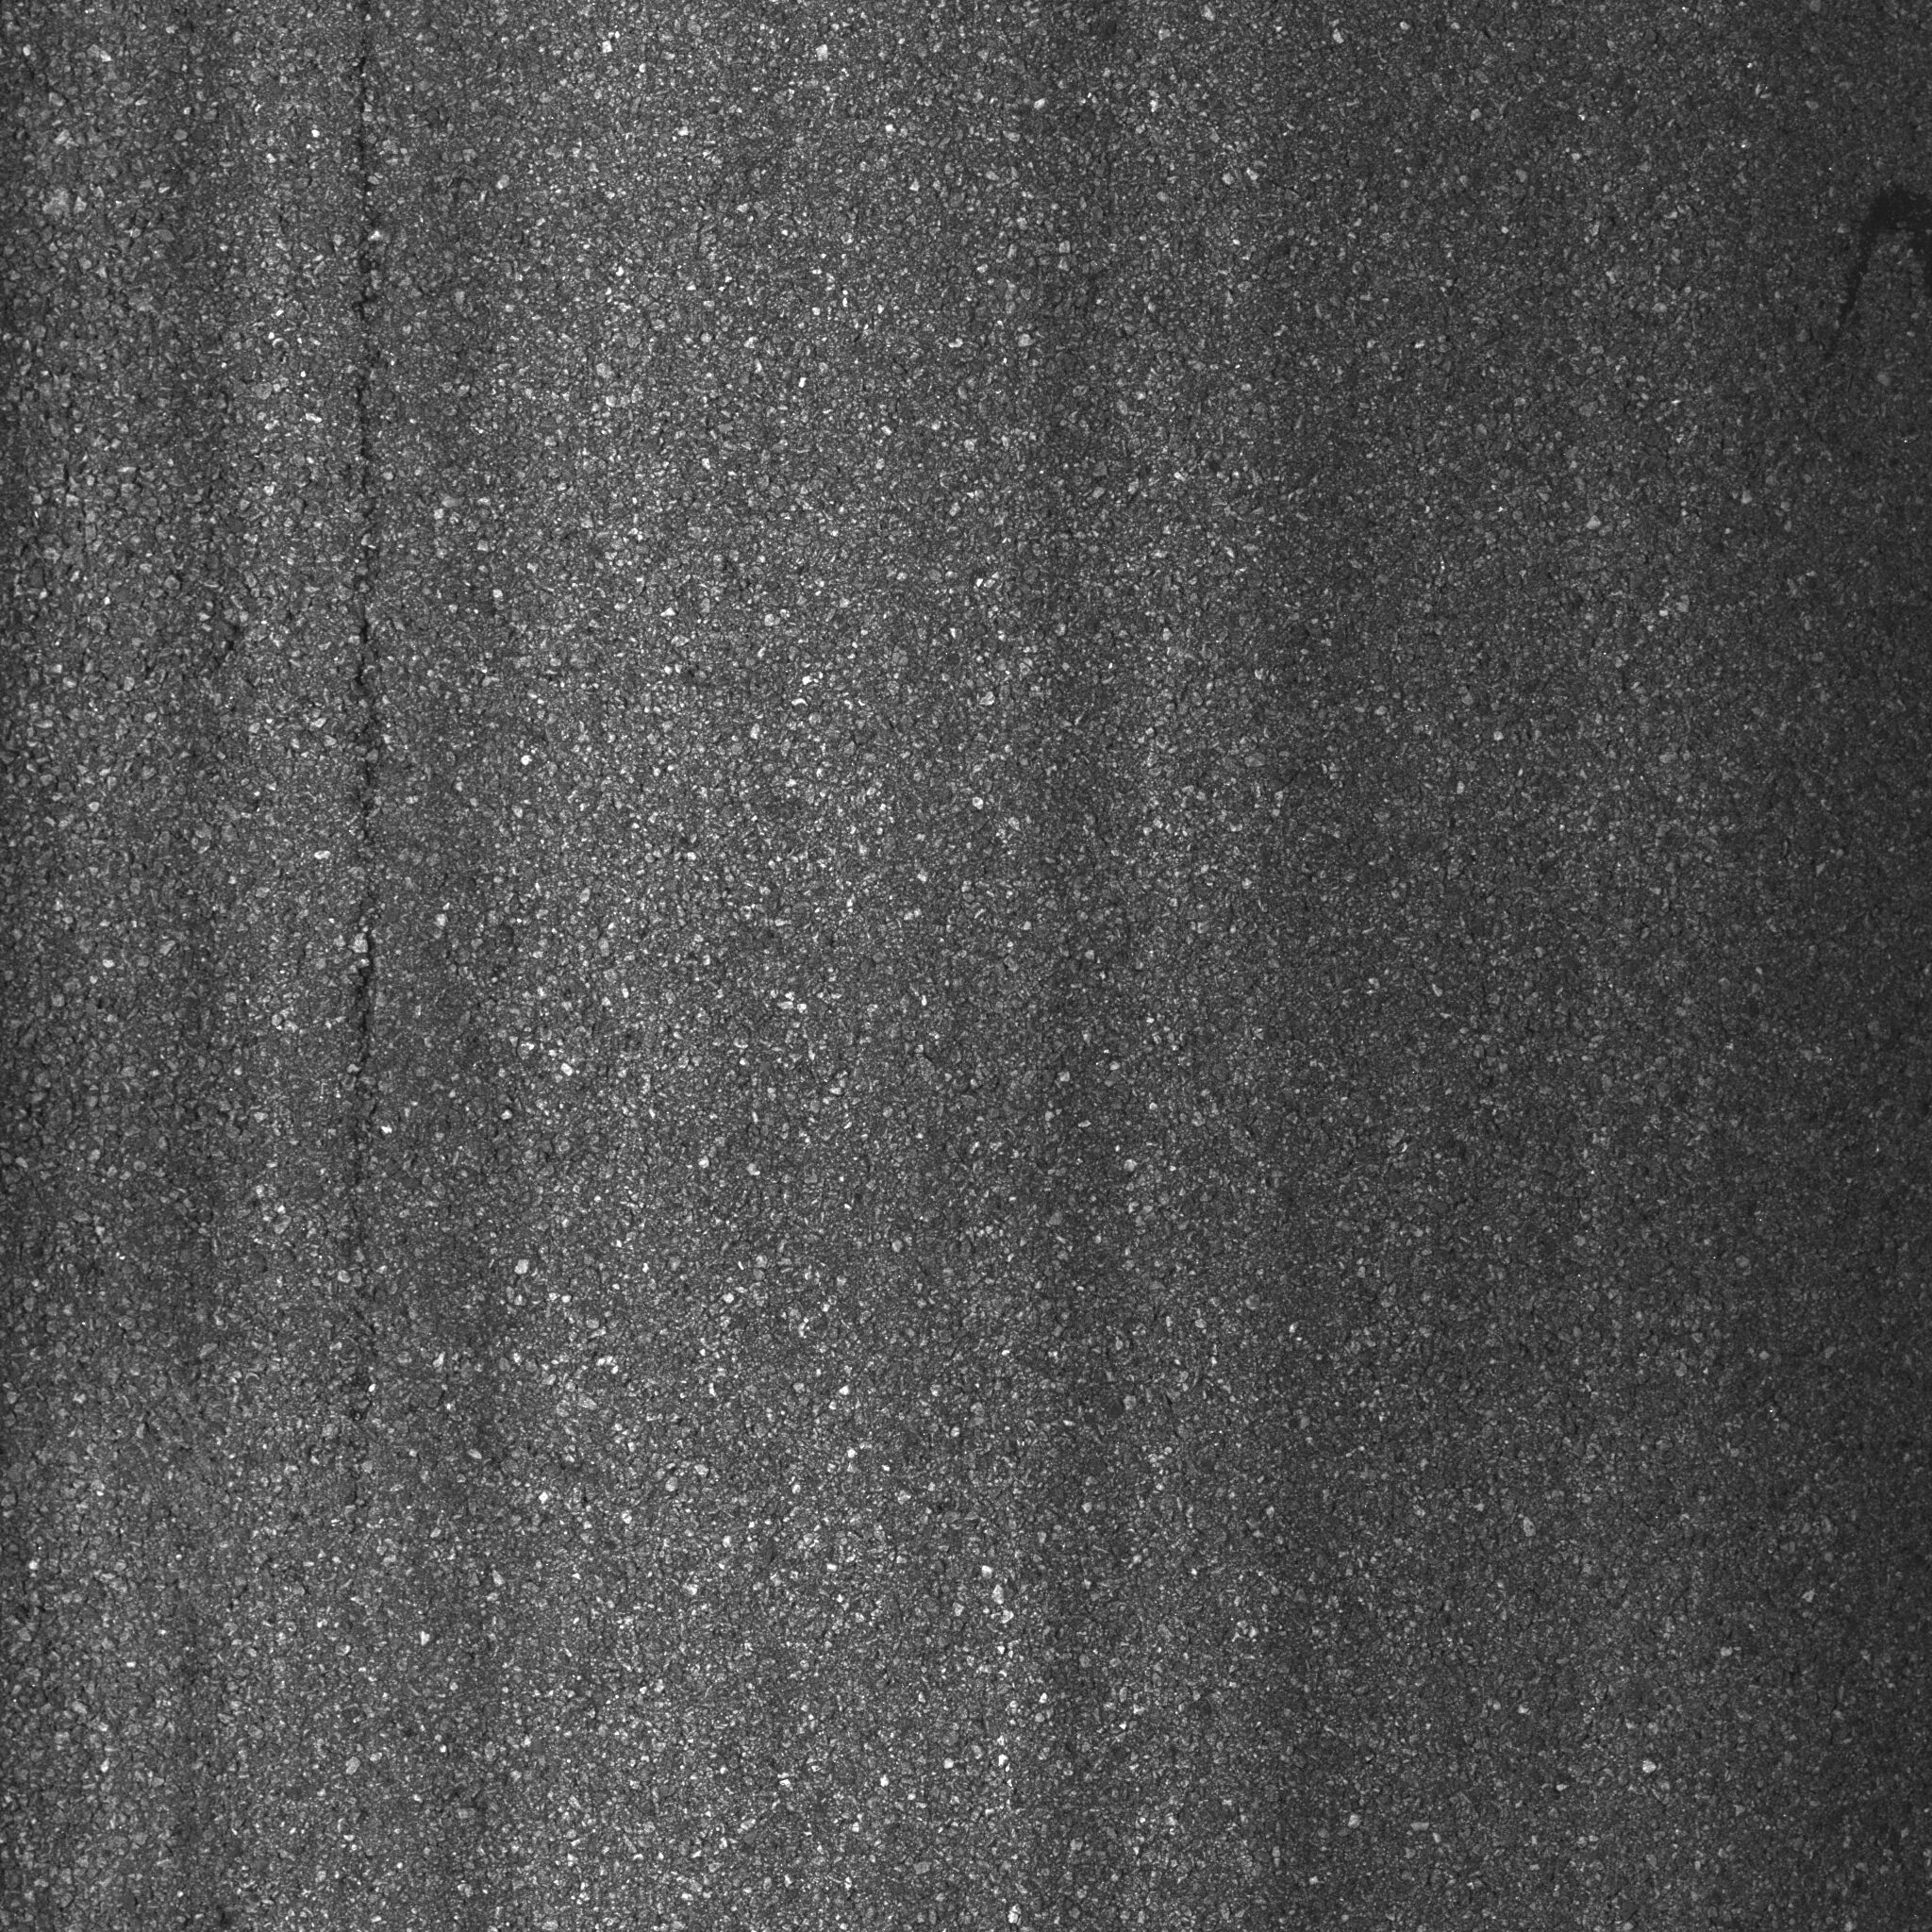longitudinal: (317, 2, 405, 1628)
